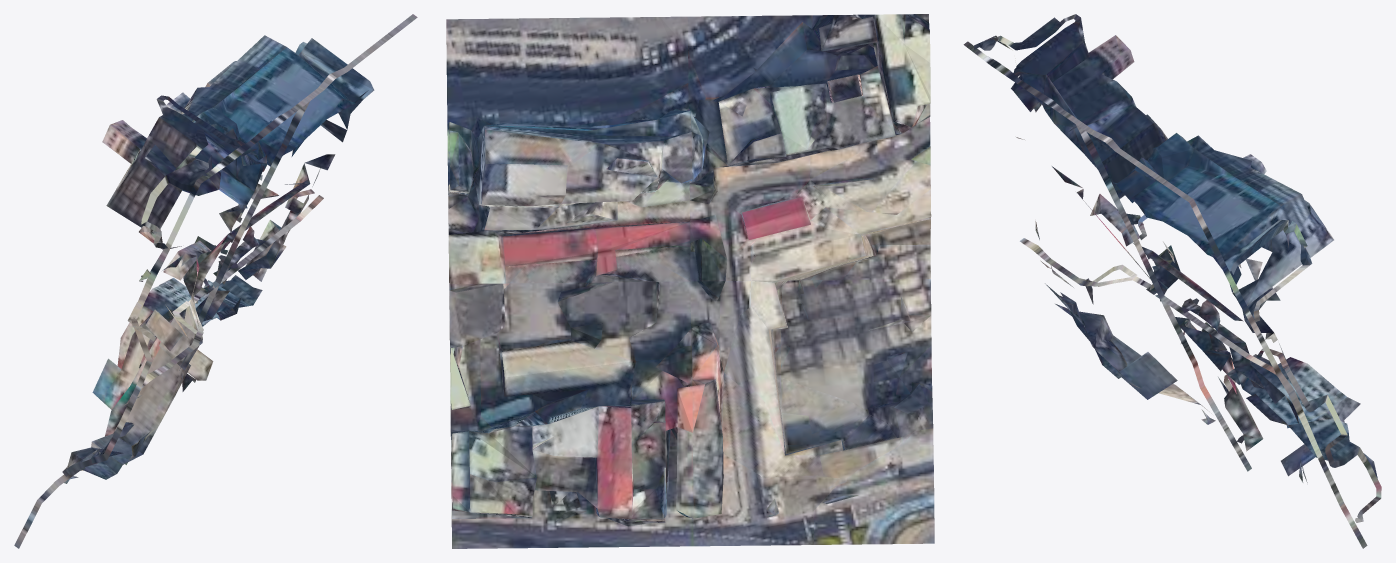
3 renders of one model, left to right at view 1: azimuth 30°, elevation 25°; view 2: azimuth 150°, elevation 25°; view 3: azimuth 270°, elevation 25°, orthographic. The views are drawn at different scales.
Bounding box in the file's own units: 153 × 151 × 133.
Materials: 1 (1 with a texture image).
